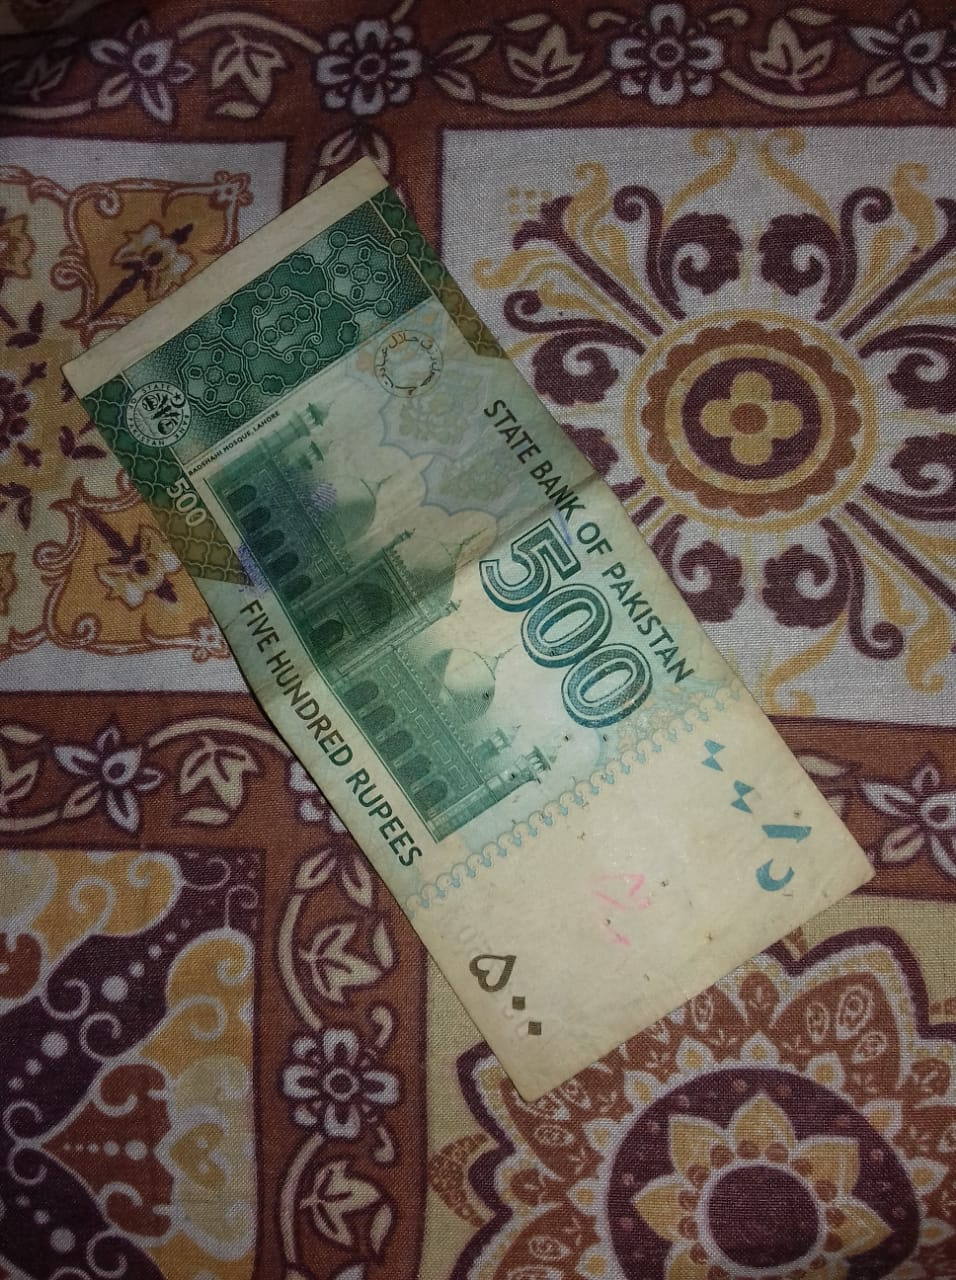500 rupee: (108, 103, 881, 1153)
